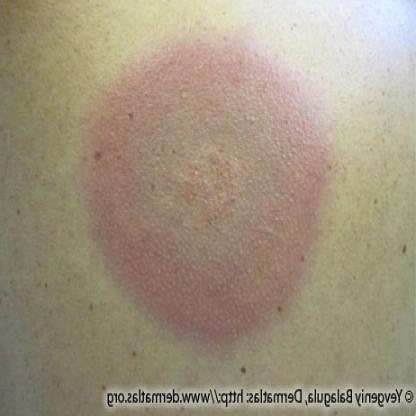Fire ant: (166, 188, 213, 220)
